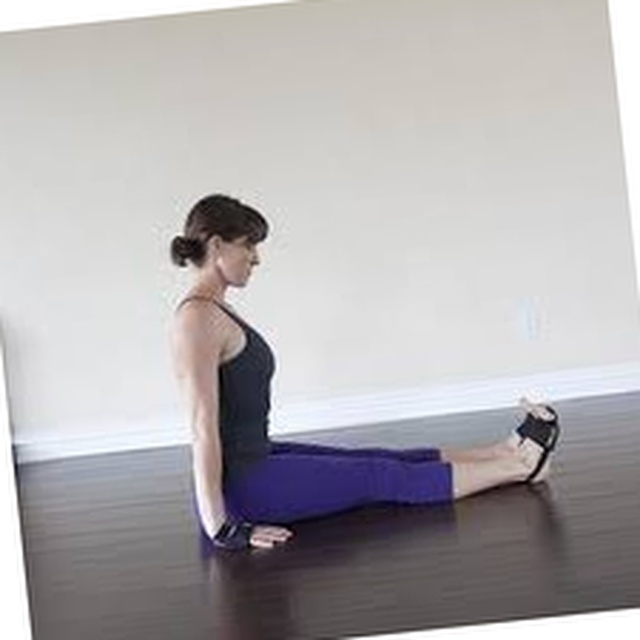Staff_Pose: (169, 192, 561, 551)
